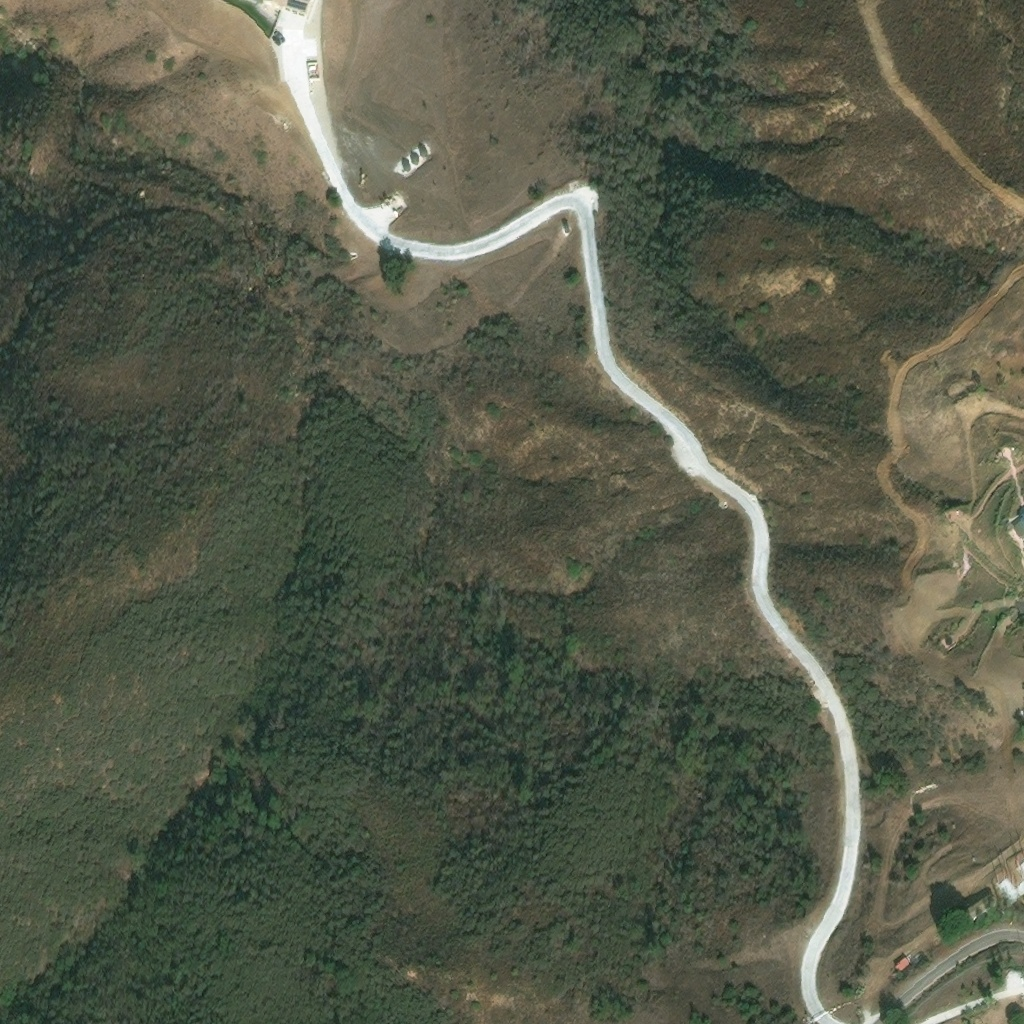0 no-damage: (964, 893, 999, 923), (260, 0, 312, 19), (893, 955, 911, 972), (307, 62, 320, 81), (1013, 518, 1023, 541)
